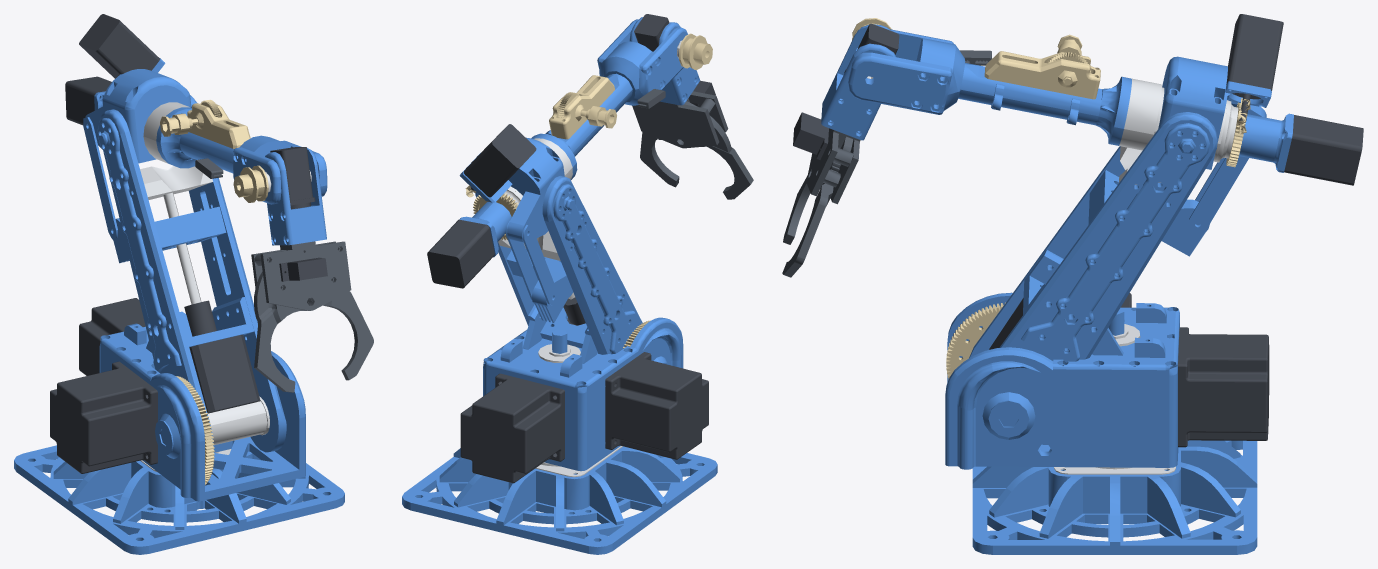
File: annin-robot.glb
3 renders of one model, left to right at view 1: azimuth 30°, elevation 25°; view 2: azimuth 150°, elevation 25°; view 3: azimuth 270°, elevation 25°, orthographic. The views are drawn at different scales.
Visible parts, largest first — view 1: J1 Base, Stepper Motor Nema 23 (×2), J1 Turret, J2 Arm Right, J2 Arm Left, J2 Arm Cover, Stepper Motor Nema 11 (×2), Gripper Motor side plate, Stepper Motor Nema 17, J3 Turret cap, J2 Drive Block, J4 Boom (+23 smaller); view 2: J1 Base, Stepper Motor Nema 23 (×2), Stepper Motor Nema 11 (×2), J1 Turret, J2 Arm Left, J1 Turret cover, J2 Arm Cover, Gripper Cover side plate, J3 Turret cap, J2 Drive Armature (×2), J5 Clevis Left Arm, J2 Motor Support (+20 smaller); view 3: J1 Base, J1 Turret, J2 Arm Right, Stepper Motor Nema 23, J2 Arm Cover, Stepper Motor Nema 11 (×2), J4 Boom, J5 Clevis Right Arm, J1 Turret cover, J3 Turret cap, J2 Arm Left, J5 Turret Right Arm (+19 smaller).
Boxes of the visible parts, bbox=[...] form: J1 Base: bbox=[14, 445, 344, 554]; Stepper Motor Nema 23 (×2): bbox=[50, 298, 157, 473]; J1 Turret: bbox=[99, 346, 305, 501]; J2 Arm Right: bbox=[189, 95, 286, 452]; J2 Arm Left: bbox=[99, 109, 213, 442]; J2 Arm Cover: bbox=[97, 118, 181, 372]; Stepper Motor Nema 11 (×2): bbox=[65, 14, 159, 125]; Gripper Motor side plate: bbox=[260, 241, 351, 310]; Stepper Motor Nema 17: bbox=[189, 334, 260, 413]; J3 Turret cap: bbox=[102, 58, 189, 110]; J2 Drive Block: bbox=[112, 206, 226, 263]; J4 Boom: bbox=[156, 107, 234, 173]; J1 Base: bbox=[402, 446, 717, 554]; Stepper Motor Nema 23 (×2): bbox=[460, 352, 708, 483]; Stepper Motor Nema 11 (×2): bbox=[427, 124, 536, 288]; J1 Turret: bbox=[483, 317, 683, 471]; J2 Arm Left: bbox=[542, 175, 642, 354]; J1 Turret cover: bbox=[483, 329, 637, 393]; J2 Arm Cover: bbox=[553, 184, 637, 354]; Gripper Cover side plate: bbox=[632, 98, 719, 148]; J3 Turret cap: bbox=[459, 137, 562, 202]; J2 Drive Armature (×2): bbox=[506, 221, 557, 305]; J5 Clevis Left Arm: bbox=[639, 27, 687, 95]; J2 Motor Support: bbox=[523, 304, 597, 363]; J1 Base: bbox=[972, 440, 1257, 554]; J1 Turret: bbox=[945, 292, 1179, 469]; J2 Arm Right: bbox=[999, 112, 1217, 360]; Stepper Motor Nema 23: bbox=[1178, 327, 1269, 447]; J2 Arm Cover: bbox=[1021, 123, 1209, 363]; Stepper Motor Nema 11 (×2): bbox=[1226, 14, 1363, 185]; J4 Boom: bbox=[917, 54, 1131, 145]; J5 Clevis Right Arm: bbox=[848, 52, 957, 114]; J1 Turret cover: bbox=[1053, 303, 1179, 375]; J3 Turret cap: bbox=[1164, 56, 1271, 113]; J2 Arm Left: bbox=[969, 146, 1125, 358]; J5 Turret Right Arm: bbox=[821, 43, 895, 140].
Bounding box in the file's own units: 1.9 × 3.3 × 3.63.
